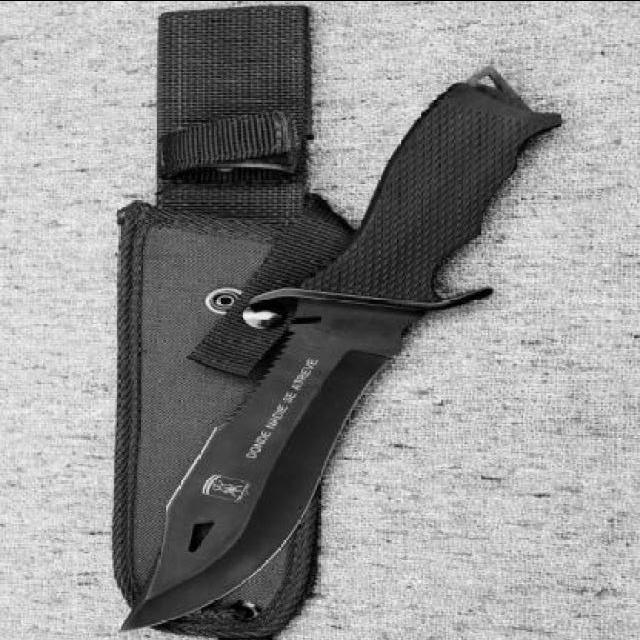Knife: (117, 66, 560, 632)
